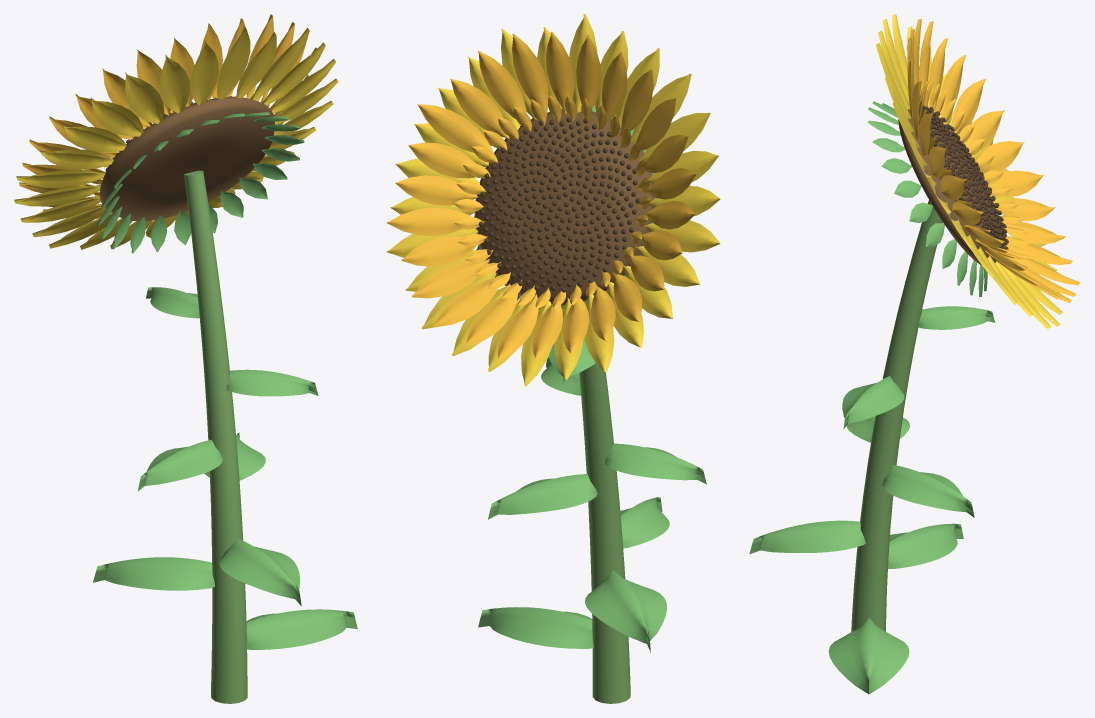
File: sonnenblume.glb
3 renders of one model, left to right at view 1: azimuth 30°, elevation 25°; view 2: azimuth 150°, elevation 25°; view 3: azimuth 270°, elevation 25°, orthographic. The views are drawn at different scales.
Parts seen in each view (by area): view 1: sonnenblume_lod0; view 2: sonnenblume_lod0; view 3: sonnenblume_lod0.
Boxes of the visible parts, x1,y1,x2,y2 form: sonnenblume_lod0: (14,14,357,703); sonnenblume_lod0: (386,14,720,703); sonnenblume_lod0: (749,14,1080,694).
Size of what is drawn, in the model's own units: 29.33 by 58.69 by 27.36.
